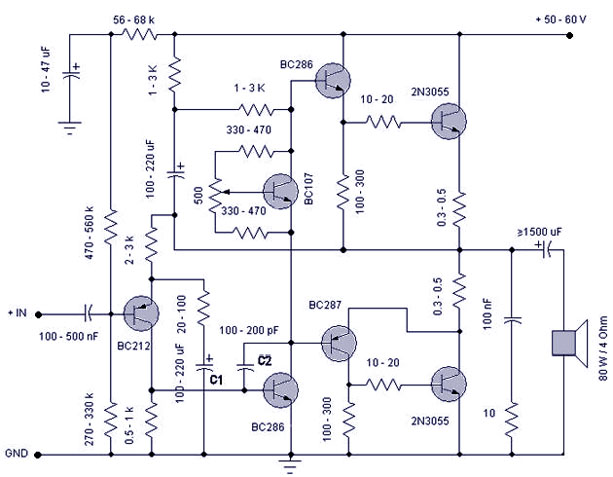C: (58, 58, 90, 88), (76, 295, 103, 325), (162, 164, 192, 186)
Q: (425, 100, 478, 149), (116, 290, 170, 337), (258, 169, 304, 215), (427, 362, 471, 406)
R: (444, 264, 475, 320), (226, 94, 282, 123), (358, 106, 408, 138), (450, 179, 474, 234)
